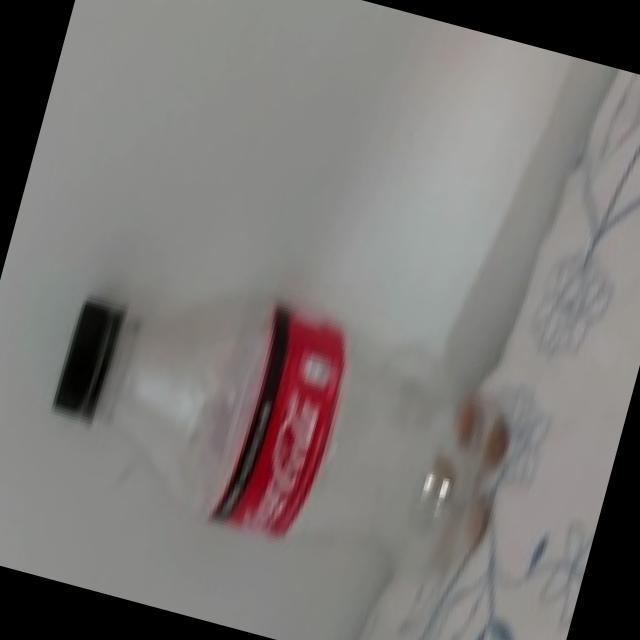good: (1, 223, 585, 634)
